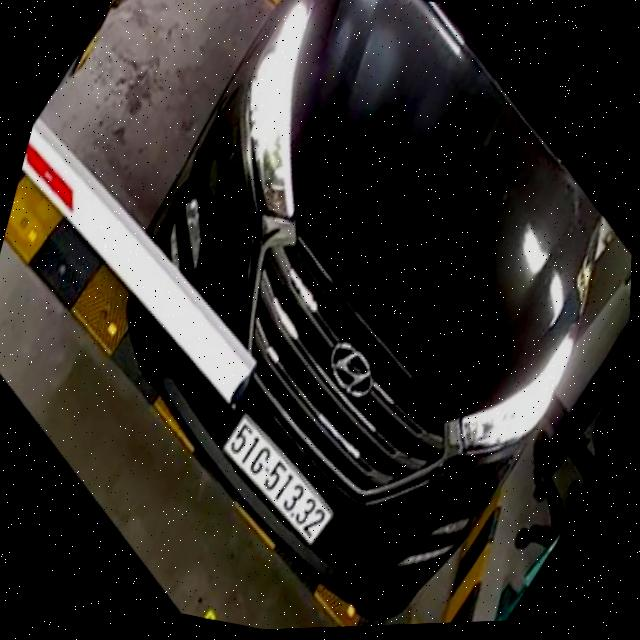car: (49, 0, 640, 637)
plate: (199, 403, 354, 554)
